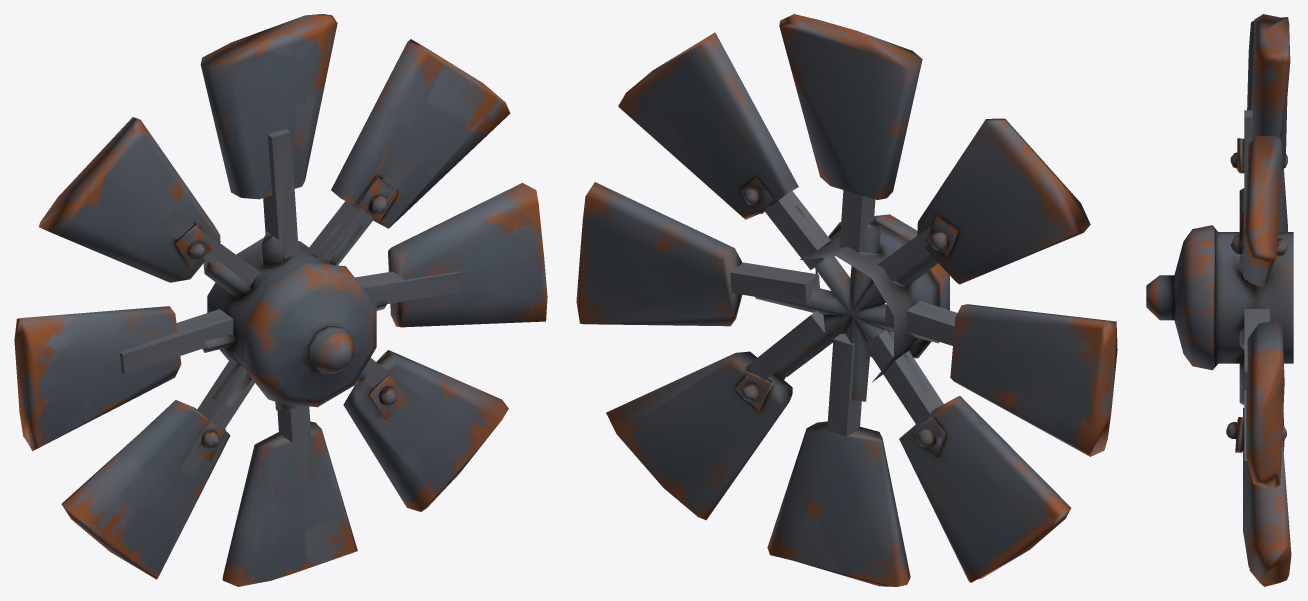
Rendered from windmill-rotor.glb.
The picture shows the model from 3 angles, left to right: view 1: azimuth 30°, elevation 25°; view 2: azimuth 150°, elevation 25°; view 3: azimuth 270°, elevation 25°; orthographic projection. The views are drawn at different scales.
Parts seen in each view (by area): view 1: tripo_node_3f7e1b16-481c-42cd-9663-c62d831053fe; view 2: tripo_node_3f7e1b16-481c-42cd-9663-c62d831053fe; view 3: tripo_node_3f7e1b16-481c-42cd-9663-c62d831053fe.
Boxes of the visible parts, bbox=[...] form: tripo_node_3f7e1b16-481c-42cd-9663-c62d831053fe: bbox=[14, 14, 547, 586]; tripo_node_3f7e1b16-481c-42cd-9663-c62d831053fe: bbox=[576, 14, 1117, 586]; tripo_node_3f7e1b16-481c-42cd-9663-c62d831053fe: bbox=[1146, 14, 1293, 586].
Size of the model in its own units: 1.8 by 1.79 by 0.4614.
Materials: 1 (1 with a texture image).
